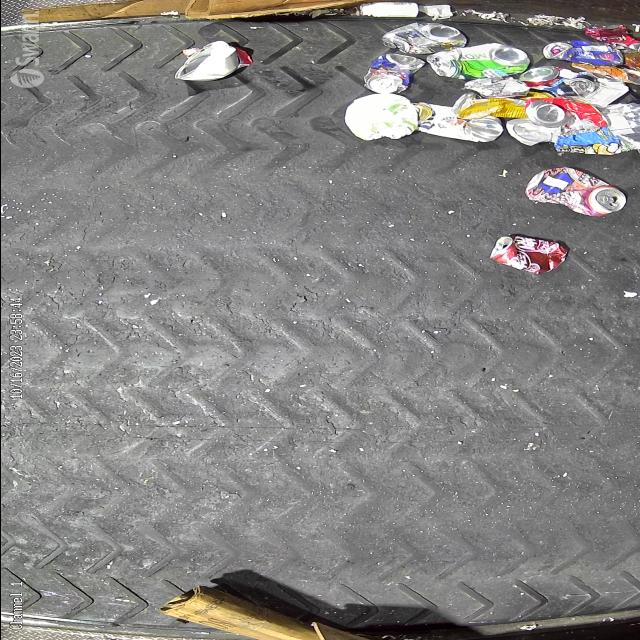can: (524, 167, 626, 217), (425, 42, 530, 80), (410, 103, 502, 143), (524, 98, 608, 137), (488, 234, 569, 274), (450, 92, 554, 120), (381, 22, 466, 54), (362, 54, 426, 94), (542, 40, 623, 66), (604, 102, 640, 150), (583, 24, 640, 54), (518, 66, 578, 93), (505, 118, 557, 146), (558, 74, 596, 98)
